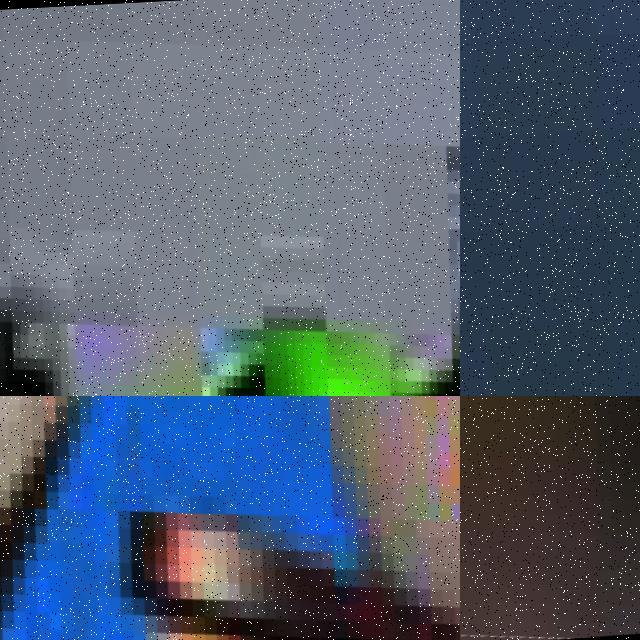0: (0, 0, 460, 396)
drone: (0, 396, 460, 640), (460, 396, 640, 640)
